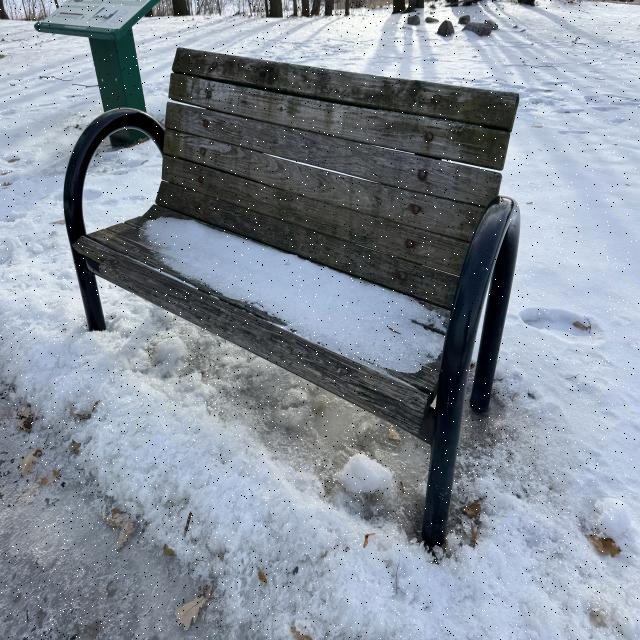Bench: (63, 74, 520, 534)
